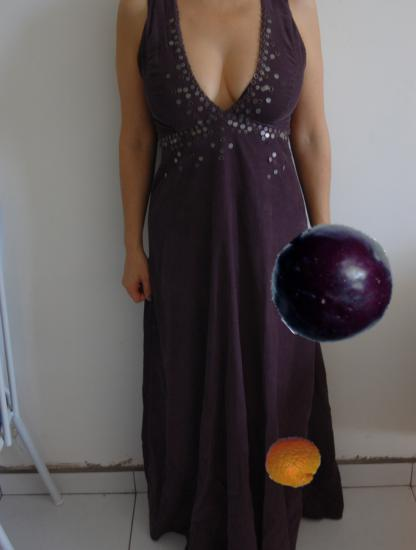Mandarine: (265, 434, 321, 490)
Plum: (270, 222, 395, 347)
